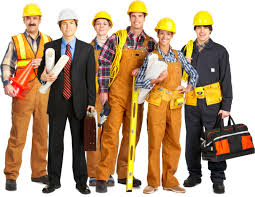Person_wearing_helmet: (191, 5, 212, 30), (153, 16, 177, 35), (56, 7, 79, 26), (124, 0, 148, 18), (20, 2, 43, 20), (89, 9, 113, 26)
